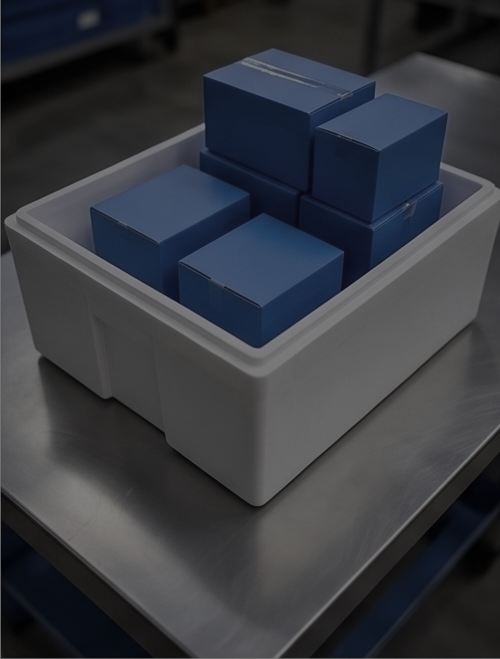blue_box: (205, 48, 376, 194), (179, 212, 347, 351), (91, 160, 252, 303), (312, 91, 447, 223), (299, 181, 444, 289), (200, 148, 302, 227)
container_box: (4, 95, 500, 508)
